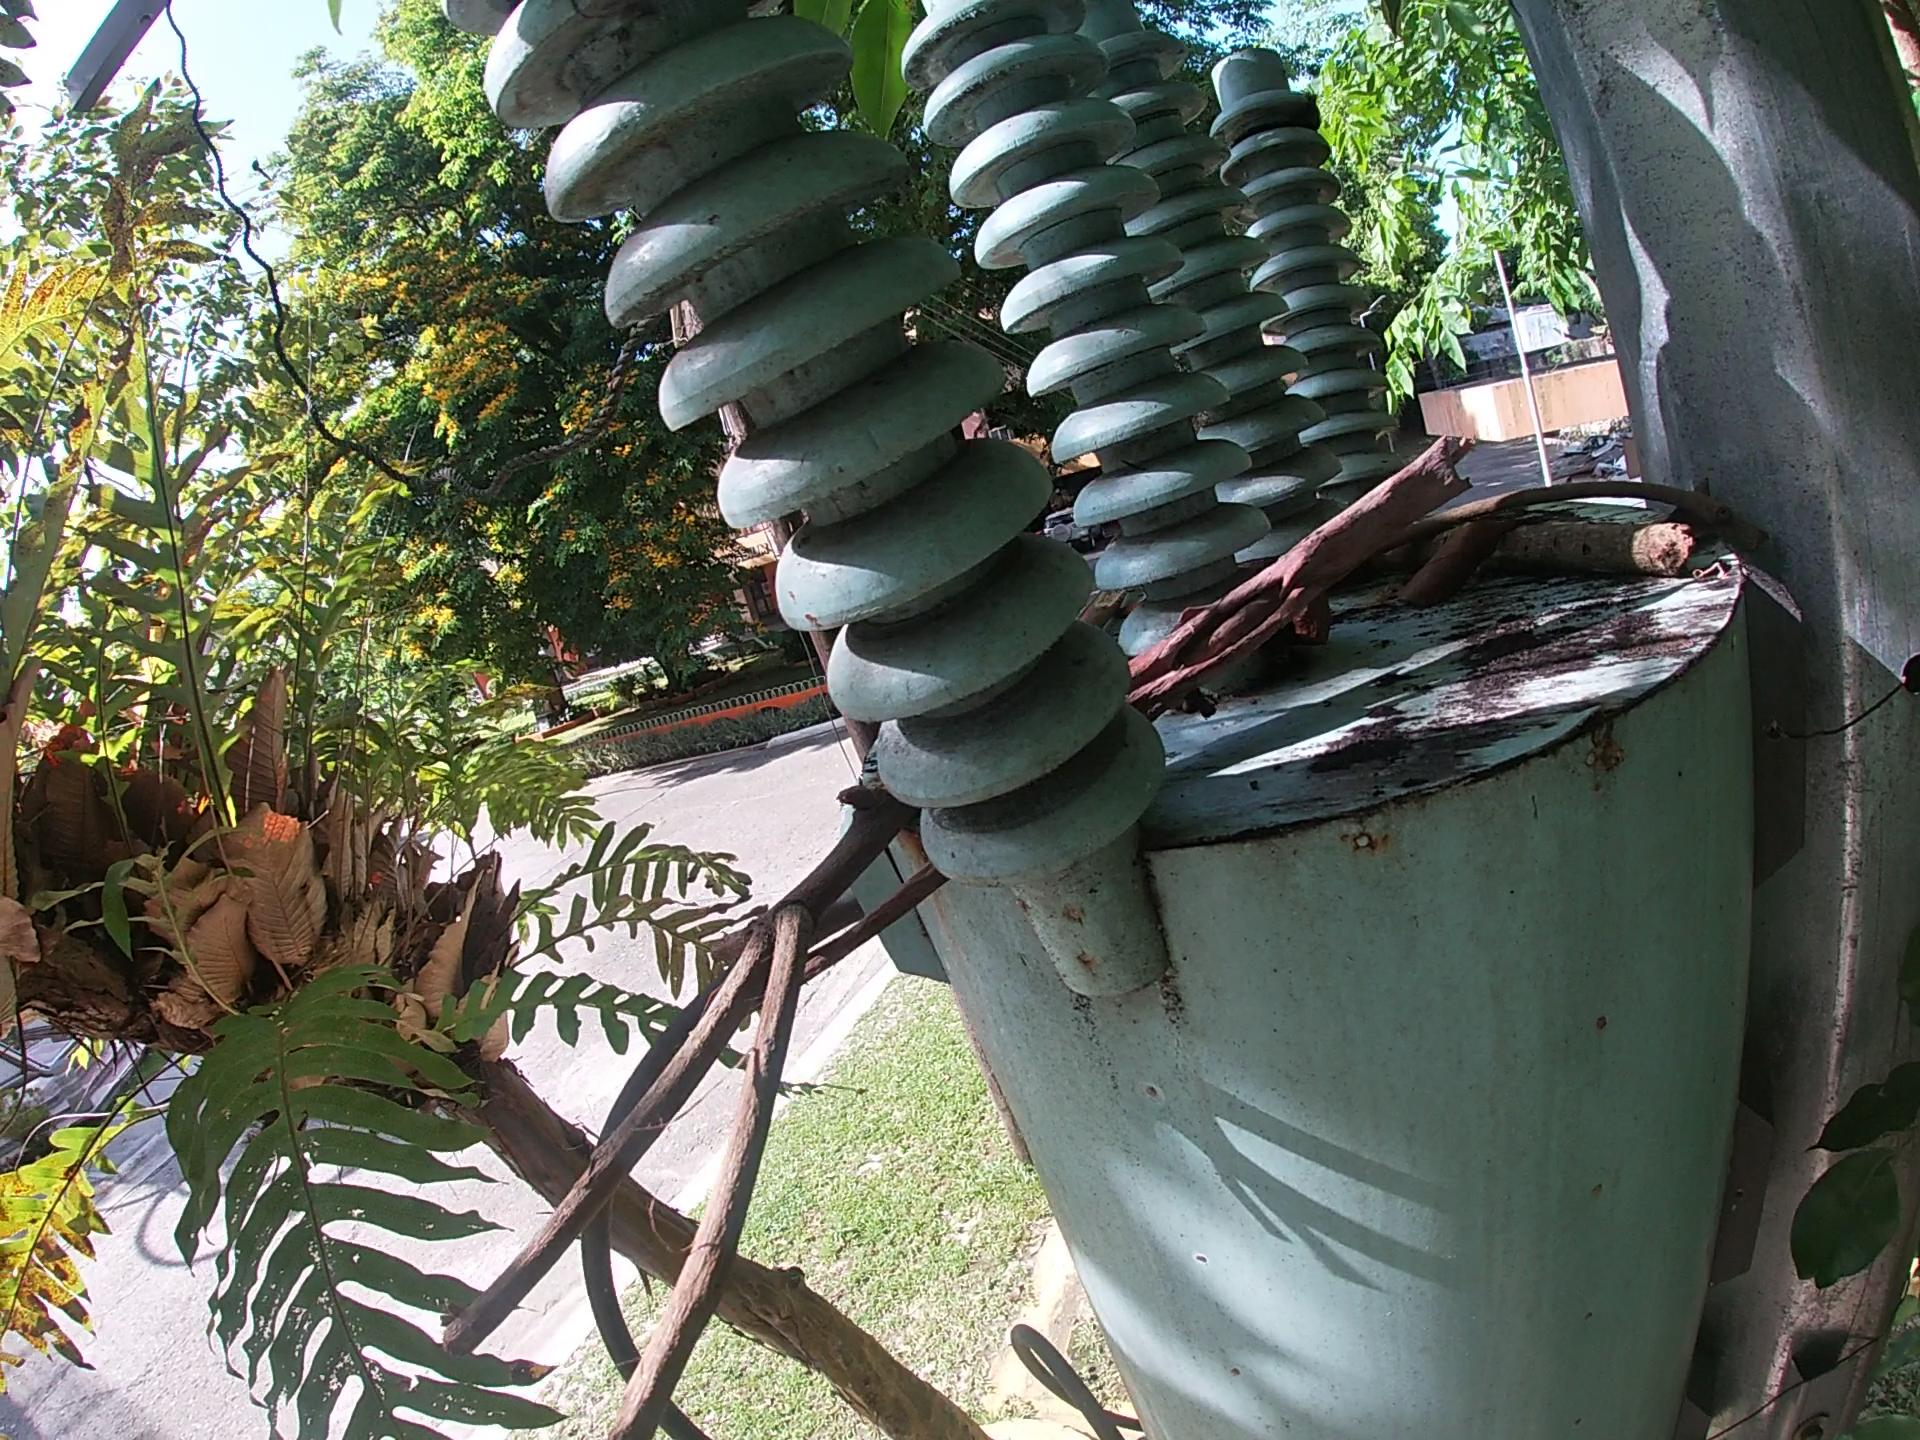leaf: (1377, 510, 1525, 625)
tree branch: (426, 774, 918, 1440), (1128, 424, 1477, 728), (1388, 461, 1779, 560), (739, 861, 948, 1012), (1361, 507, 1693, 593)
